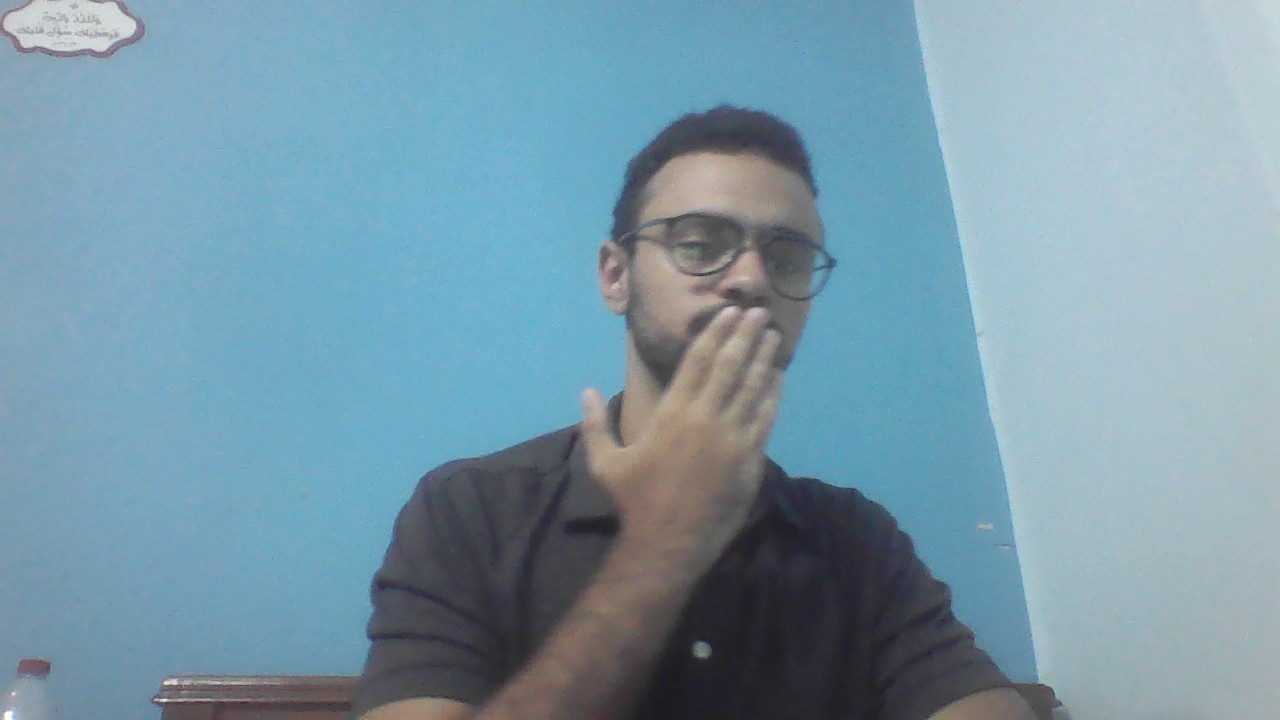thankyou: (580, 302, 787, 551)
